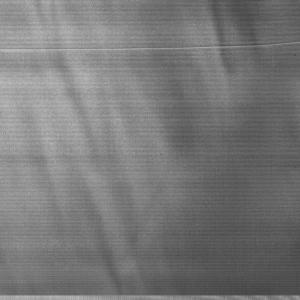Wrinkle: (1, 1, 169, 300), (202, 1, 274, 109)
